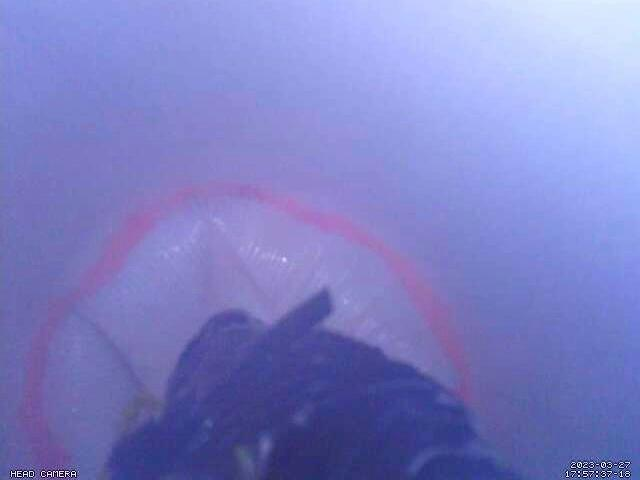head: (21, 180, 476, 480)
